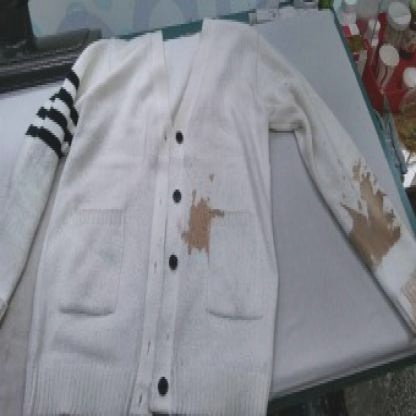coffee: (349, 210, 396, 259), (188, 203, 210, 252)
